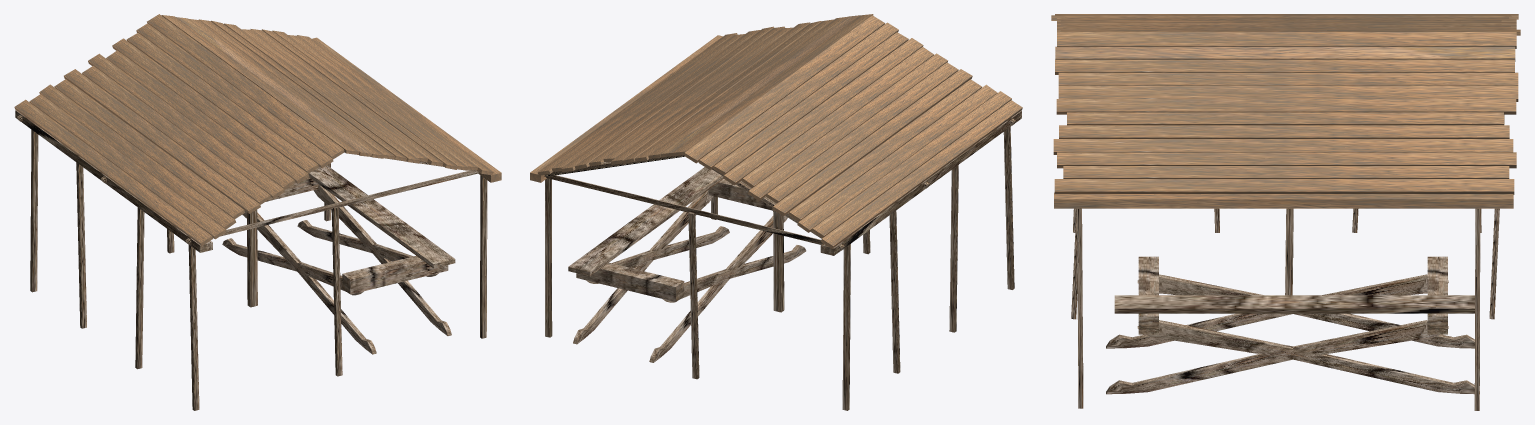
File: market-stall4.fbx
3 views of the same model, side by side, from view 1: azimuth 30°, elevation 25°; view 2: azimuth 150°, elevation 25°; view 3: azimuth 270°, elevation 25° (orthographic). The views are drawn at different scales.
Parts seen in each view (by area): view 1: Cube.053, Cube.074; view 2: Cube.053, Cube.074; view 3: Cube.053, Cube.074.
Part boxes in pixels (x1,y1,x2,y2): Cube.053: [14, 14, 501, 410]; Cube.074: [222, 165, 455, 354]; Cube.053: [530, 14, 1022, 410]; Cube.074: [568, 167, 806, 362]; Cube.053: [1051, 14, 1520, 410]; Cube.074: [1106, 256, 1479, 394].
Size of the model in its own units: 428 by 310 by 461.
